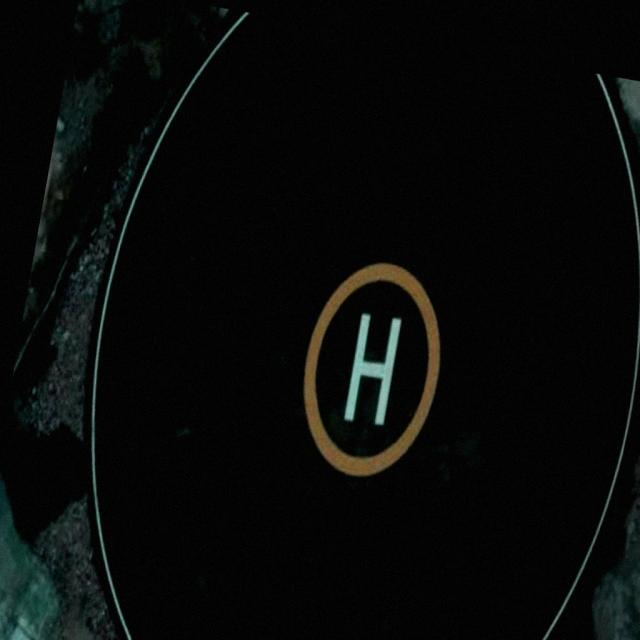helipad: (296, 260, 444, 480)
